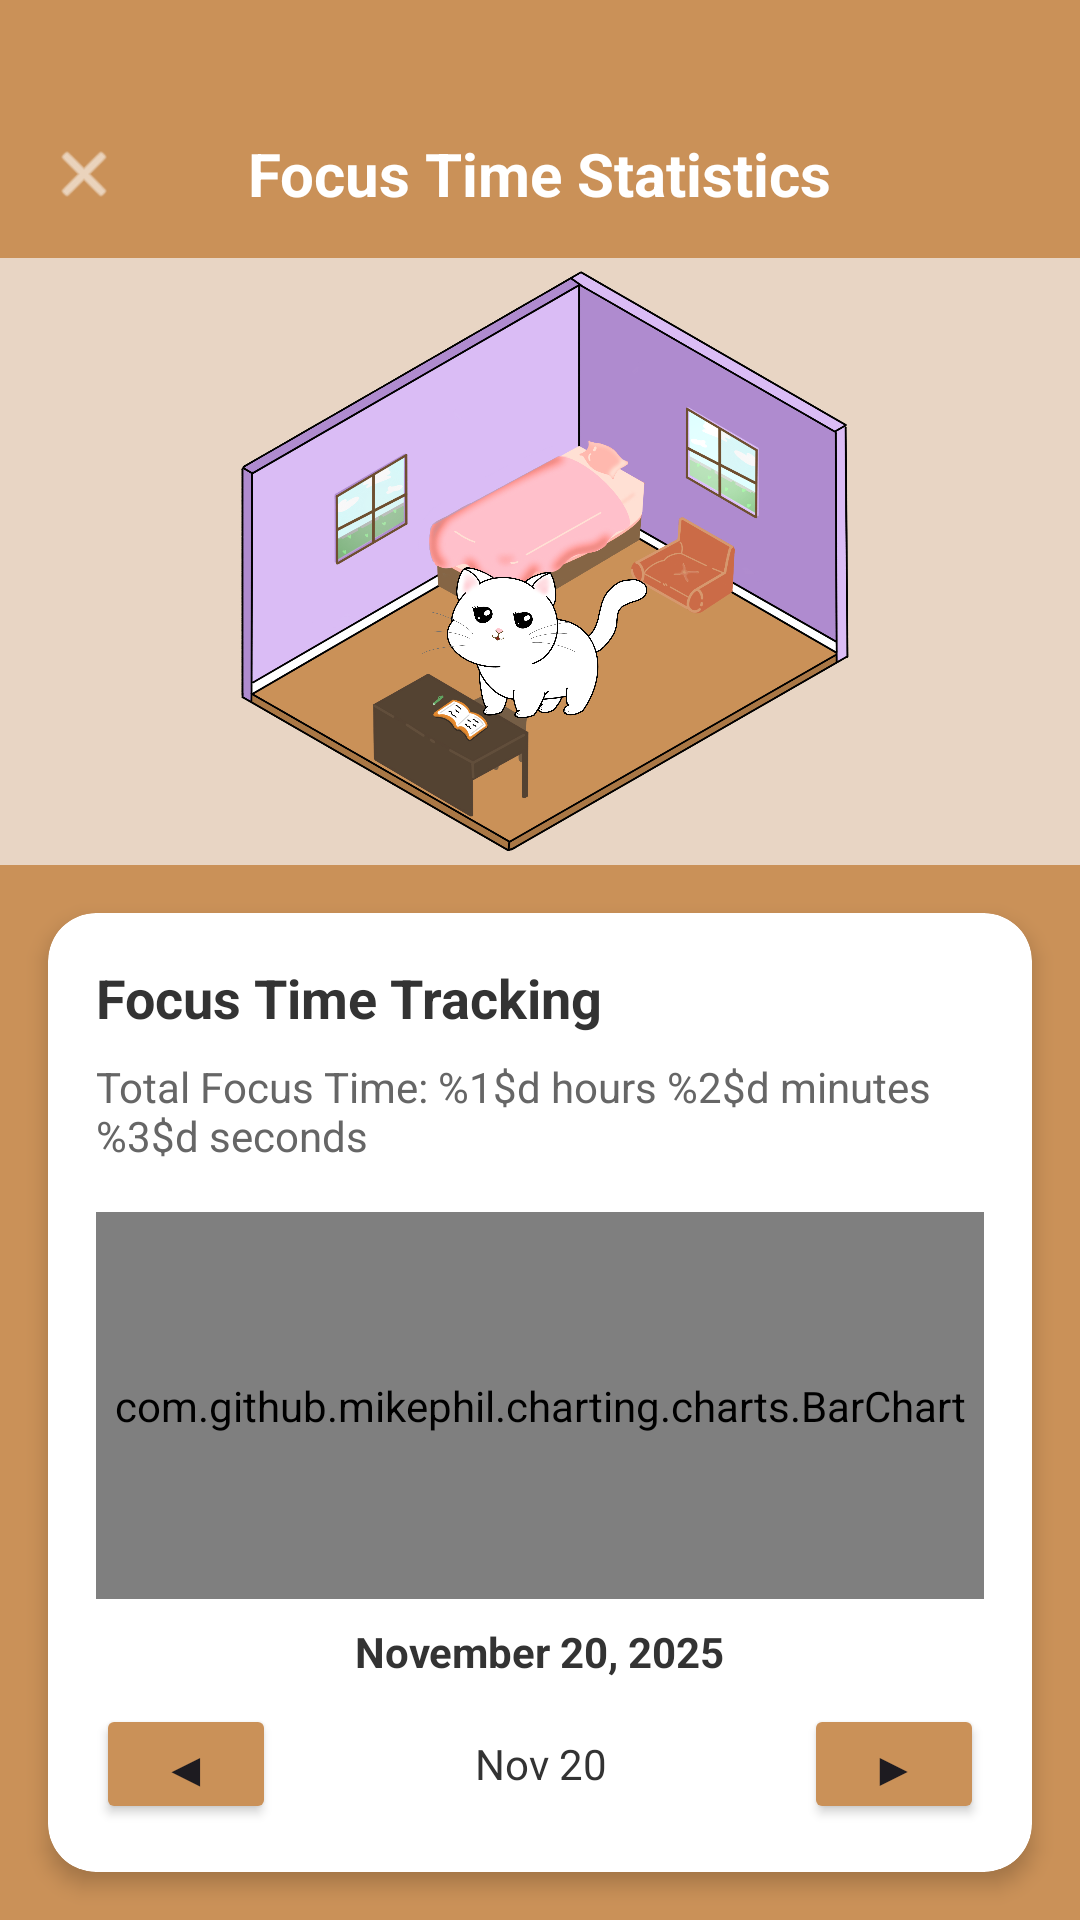

Point at icon controls on the screen. Image size 1080px×1920px, points as (x=x, y=y).
catwhite frame: (x=540, y=655)
close clear cancel: (x=84, y=174)
